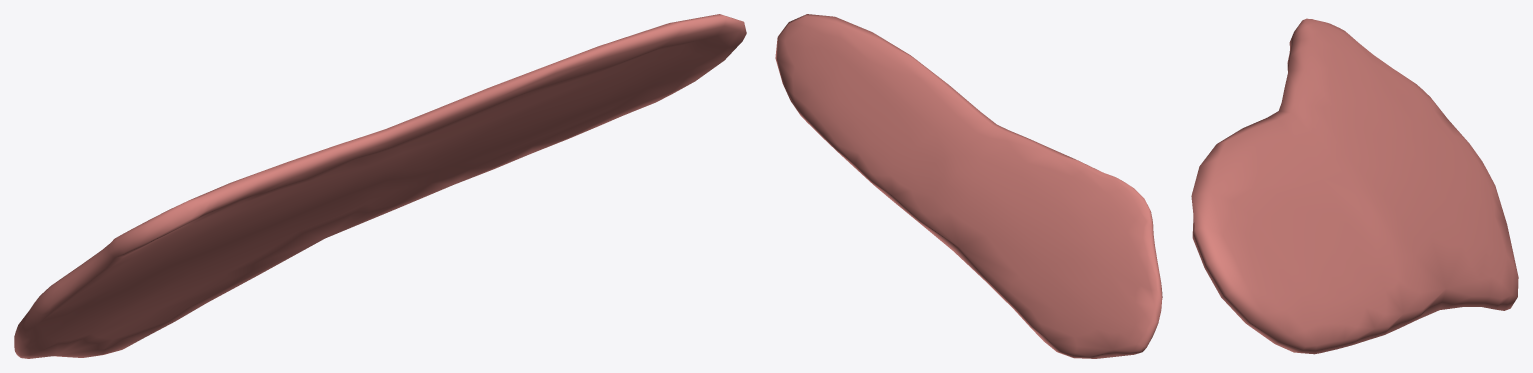
3 views of the same model, side by side, from view 1: azimuth 30°, elevation 25°; view 2: azimuth 150°, elevation 25°; view 3: azimuth 270°, elevation 25° (orthographic). The views are drawn at different scales.
Visible parts, largest first — view 1: ZA_716f805ffeee76f0; view 2: ZA_716f805ffeee76f0; view 3: ZA_716f805ffeee76f0.
Part boxes in pixels (x1,y1,x2,y2): ZA_716f805ffeee76f0: (14,14,746,358); ZA_716f805ffeee76f0: (775,14,1162,358); ZA_716f805ffeee76f0: (1191,18,1518,354).
Size of the model in its own units: 0.0177 by 0.00792 by 0.00571.
